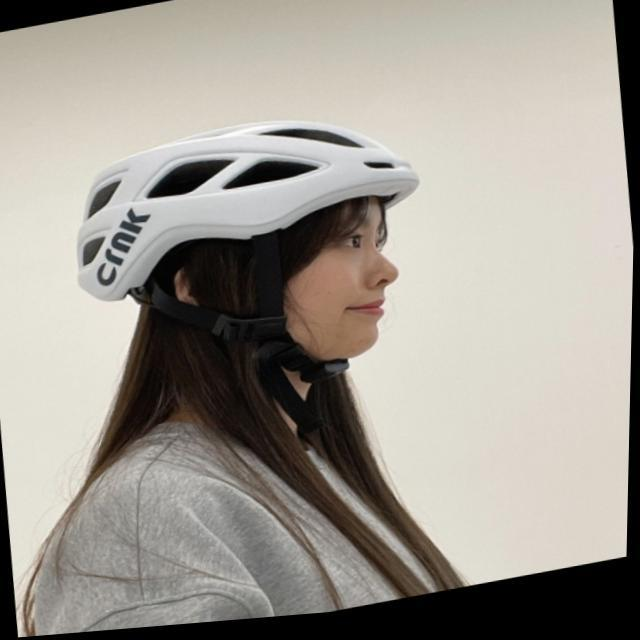Helmet: (73, 117, 420, 374)
